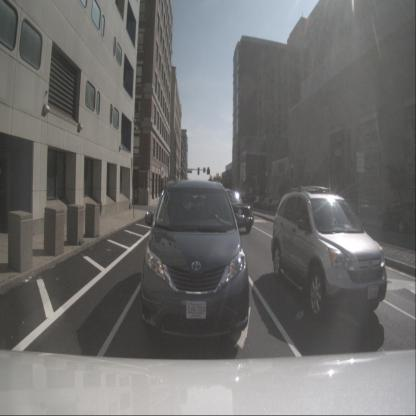human-pedestrian-adult: (134, 187, 137, 205)
vehicle-car: (141, 180, 249, 347), (271, 190, 387, 318), (268, 199, 280, 210), (260, 198, 272, 208), (254, 196, 264, 207)
vehicle-truck: (209, 189, 254, 232), (378, 200, 416, 233)
